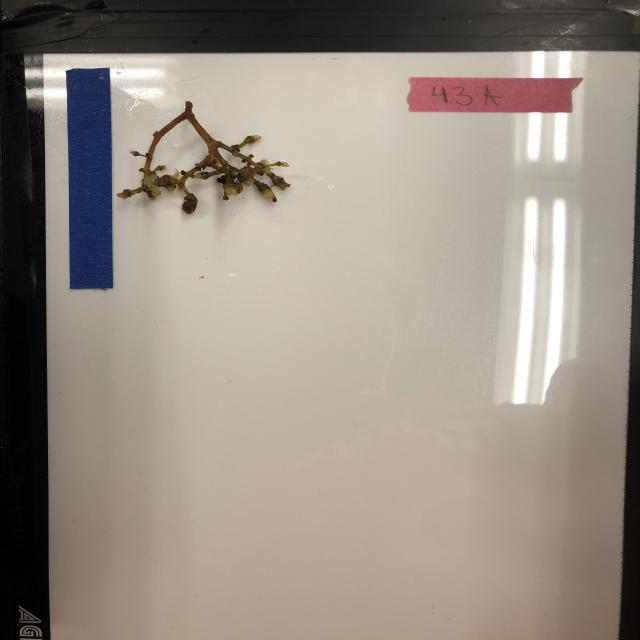index: (408, 74, 587, 116)
measure_label: (63, 66, 119, 292)
rachis_cluster: (118, 96, 301, 222)
